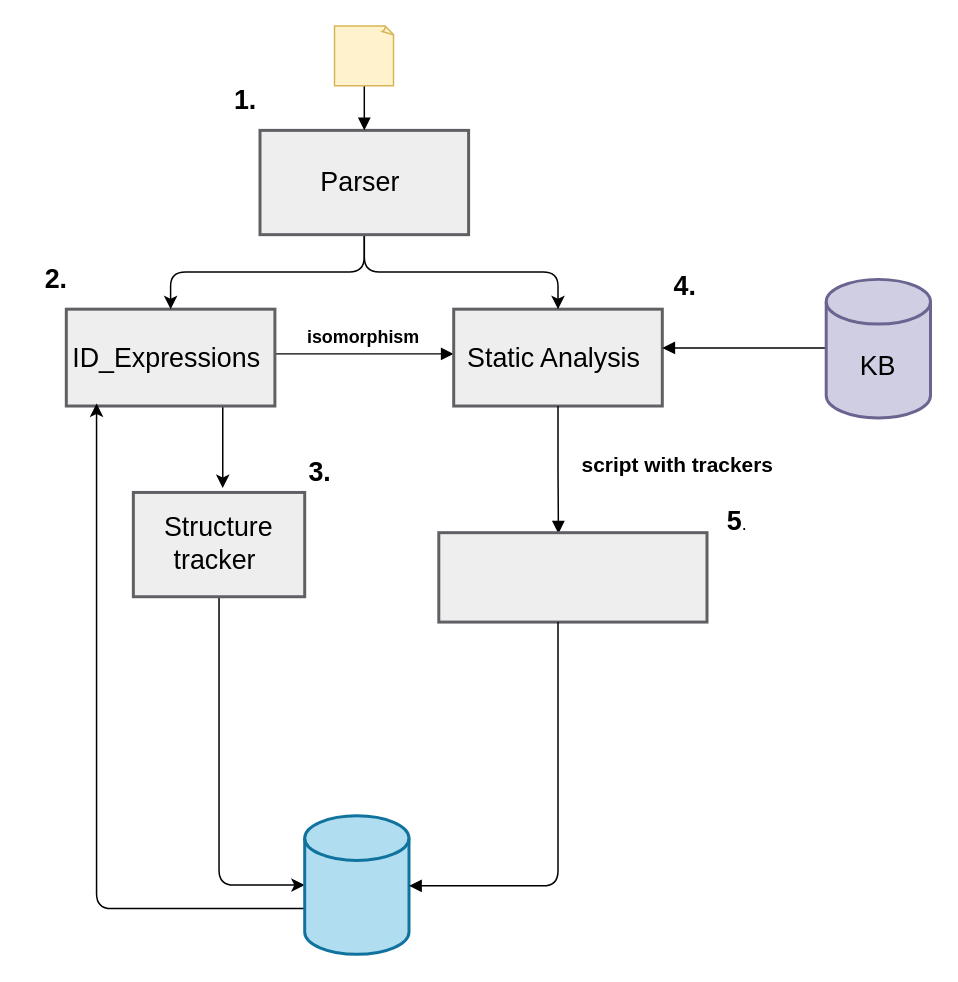
This 958x982 diagram has some shape labels left out. The box of each missing label's shape, as (x1, y1, x2, y2) in pixels:
.py: (333, 25, 394, 86)
Rutime evaluation of tracked values: (437, 530, 708, 623)
SQL: (302, 814, 410, 955)
